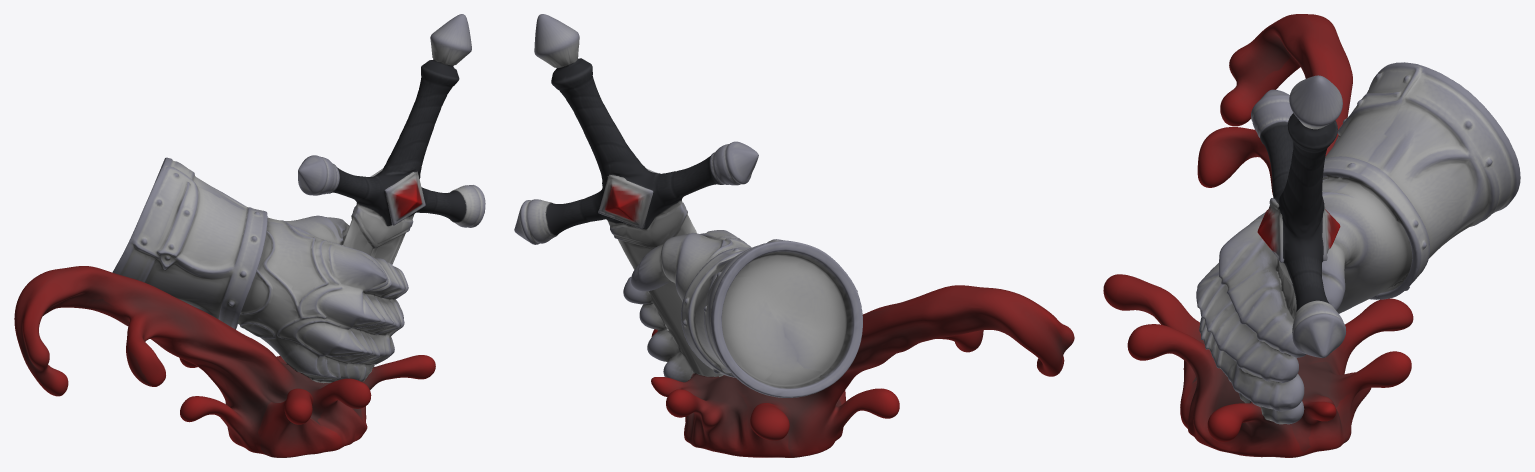
File: Prop - Gauntlet.glb
3 views of the same model, side by side, from view 1: azimuth 30°, elevation 25°; view 2: azimuth 150°, elevation 25°; view 3: azimuth 270°, elevation 25° (orthographic). The views are drawn at different scales.
Visible parts, largest first — view 1: gauntlet; view 2: gauntlet; view 3: gauntlet.
Boxes of the visible parts, bbox=[...] form: gauntlet: bbox=[14, 14, 485, 457]; gauntlet: bbox=[514, 14, 1074, 457]; gauntlet: bbox=[1103, 14, 1520, 457].
Size of the model in its own units: 1.04 by 0.7267 by 0.5981.
1 material, 1 textured.
